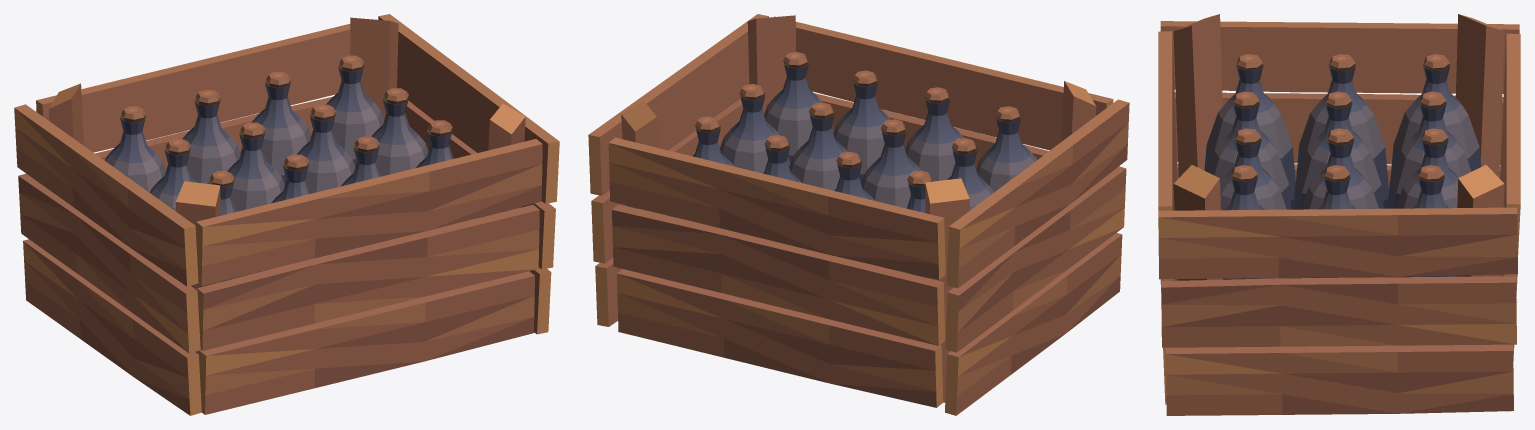
Rendered from crate_full.fbx.
3 views of the same model, side by side, from view 1: azimuth 30°, elevation 25°; view 2: azimuth 150°, elevation 25°; view 3: azimuth 270°, elevation 25° (orthographic). The views are drawn at different scales.
Parts seen in each view (by area): view 1: crate_full; view 2: crate_full; view 3: crate_full.
Boxes of the visible parts, left/top/right/bottom form: crate_full: left=14, top=14, right=559, bottom=415; crate_full: left=588, top=14, right=1129, bottom=415; crate_full: left=1158, top=14, right=1520, bottom=415.
Bounding box in the file's own units: 52.3 × 29.08 × 41.51.
